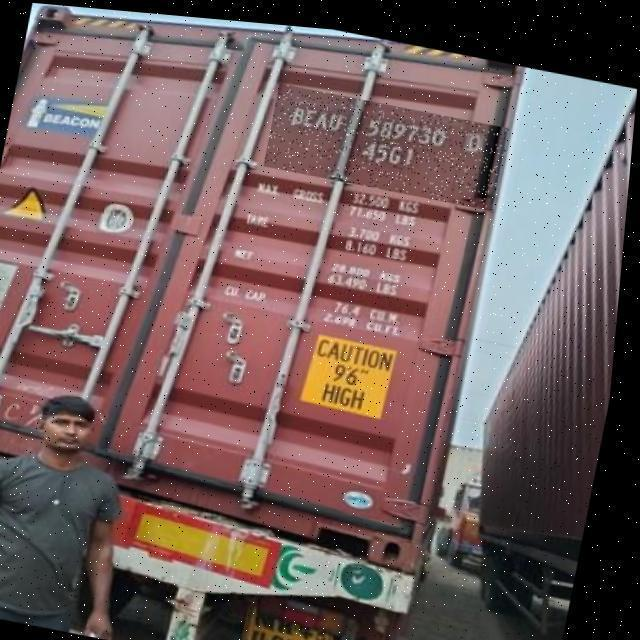container_number_h: (264, 77, 513, 202)
